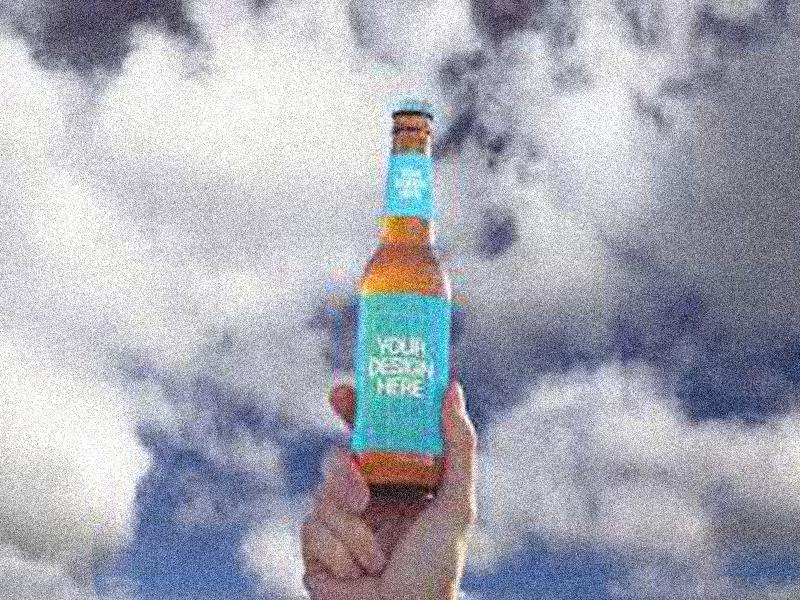Beer: (361, 102, 451, 492)
